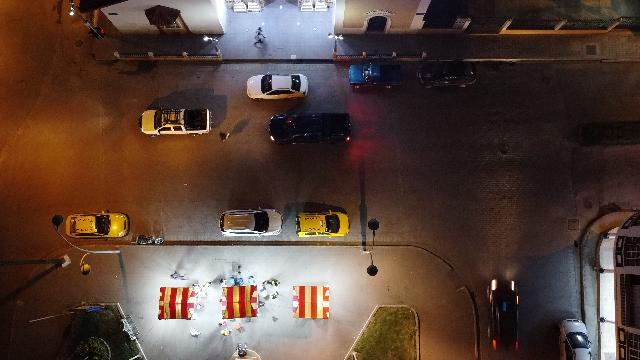Vehiculo: (269, 113, 351, 145), (138, 108, 212, 137), (489, 279, 519, 350), (66, 211, 130, 239), (219, 208, 283, 236), (418, 60, 477, 88), (246, 74, 308, 100), (348, 63, 402, 89), (295, 211, 349, 237), (559, 319, 592, 360)
